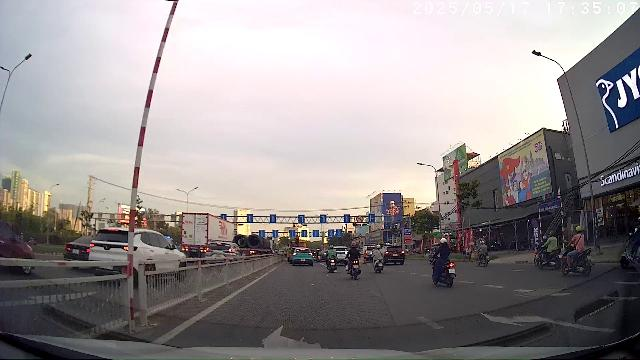123a-cam-re-trai: (356, 215, 364, 223)
